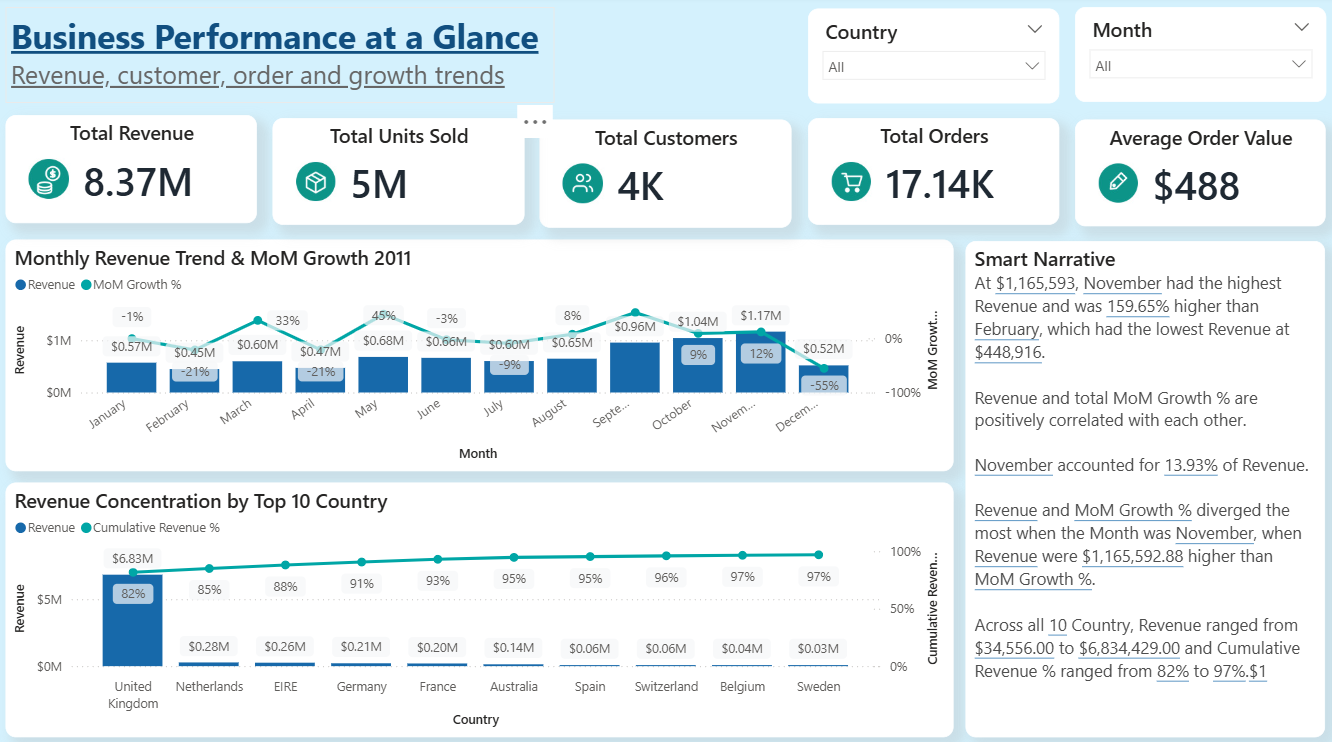

Layout of this report page (visuals, bound fields, positions):
{"tool":"powerbi","page":{"name":"Executive Overview","canvas":[1280,720],"ordinal":1},"visuals":[{"type":"lineClusteredColumnComboChart","title":"Monthly Revenue Trend & MoM Growth 2011 ","fields":{"Category":["Calendar.Month Name"],"Y":["Online Retail Data Set.Total Revenue"],"Y2":["Online Retail Data Set.MoM Growth %"]},"box":[9.5,233.8,905.1,221.1],"z":0},{"type":"cardVisual","title":"Total Revenue","fields":{"Data":["Sum(Online Retail Data Set.Revenue)"]},"box":[9.5,114.5,240.2,103.4],"z":1000},{"type":"cardVisual","title":"Total Customers","fields":{"Data":["Online Retail Data Set.Customers"]},"box":[520.5,119.4,240.6,103.1],"z":2000},{"type":"cardVisual","title":"Total Orders","fields":{"Data":["Online Retail Data Set.Total Orders"]},"box":[776.2,117,240,101.8],"z":3000},{"type":"cardVisual","title":"Total Units Sold","fields":{"Data":["Online Retail Data Set.Units Sold"]},"box":[264.8,117.8,240.6,101.7],"z":4000},{"type":"cardVisual","title":"Average Order Value","fields":{"Data":["Online Retail Data Set.Average Order value"]},"box":[1031.3,118.6,239.2,101.7],"z":5000},{"type":"lineStackedColumnComboChart","title":"Revenue Concentration by Top 10 Country","fields":{"Category":["Online Retail Data Set.Country"],"Y":["Online Retail Data Set.Total Revenue"],"Y2":["Calendar.Cumulative Revenue %"]},"box":[9.5,466,905.1,243.4],"z":6000},{"type":"slicer","fields":{"Values":["Online Retail Data Set.Country"]},"box":[776.2,12.7,240.2,90.7],"z":7000},{"type":"textbox","box":[10.6,12.1,523.9,90.9],"z":8000},{"type":"slicer","fields":{"Values":["Calendar.Month Name"]},"box":[1031.2,12.1,240,90.9],"z":9000},{"type":"textbox","title":"Smart Narrative","box":[927.3,235.4,343.6,474],"z":10000}]}

Visuals, with their boxes in screenshot pixels (x1, y1, x2, y2), scaled from the page's 1280x720 canvas onto the 1332x742 screenshot:
"Monthly Revenue Trend & MoM Growth 2011 " lineClusteredColumnComboChart: rect(10, 241, 952, 469)
"Total Revenue" cardVisual: rect(10, 118, 260, 225)
"Total Customers" cardVisual: rect(542, 123, 792, 229)
"Total Orders" cardVisual: rect(808, 121, 1057, 225)
"Total Units Sold" cardVisual: rect(276, 121, 526, 226)
"Average Order Value" cardVisual: rect(1073, 122, 1322, 227)
"Revenue Concentration by Top 10 Country" lineStackedColumnComboChart: rect(10, 480, 952, 731)
slicer - Online Retail Data Set.Country: rect(808, 13, 1058, 107)
textbox: rect(11, 12, 556, 106)
slicer - Calendar.Month Name: rect(1073, 12, 1323, 106)
"Smart Narrative" textbox: rect(965, 243, 1323, 731)
